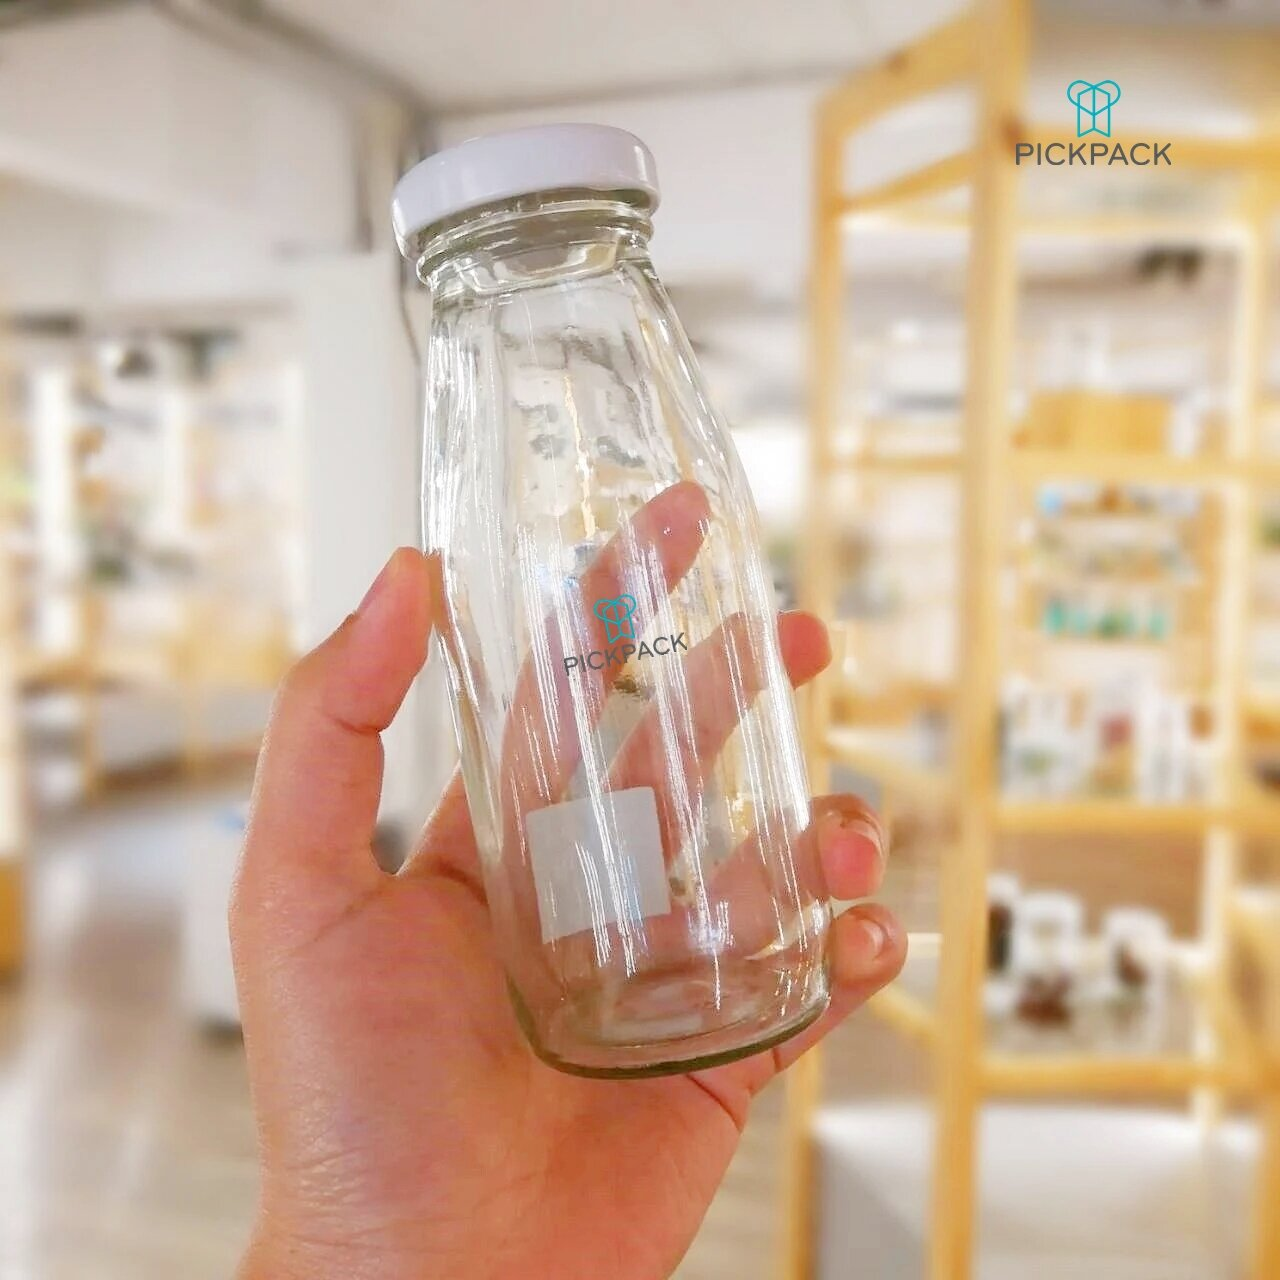glass_bottle: (372, 103, 857, 1094)
